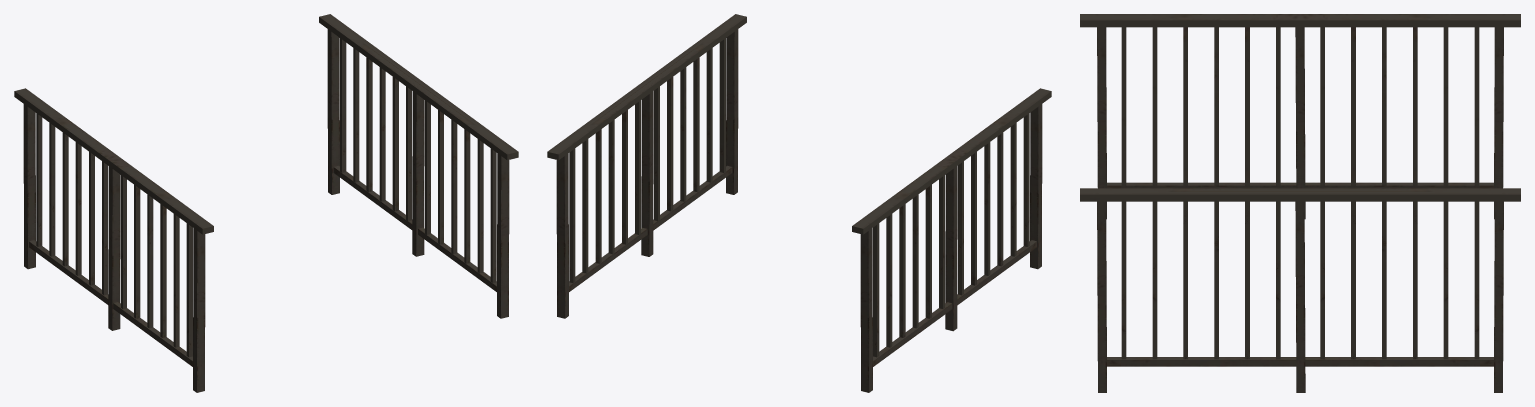
Rendered from Stairs_Rails_Metal_Straight_2.glb.
The picture shows the model from 3 angles, left to right: view 1: azimuth 30°, elevation 25°; view 2: azimuth 150°, elevation 25°; view 3: azimuth 270°, elevation 25°; orthographic projection. The views are drawn at different scales.
Parts seen in each view (by area): view 1: Stairs_Rails_Metal_Straight_2; view 2: Stairs_Rails_Metal_Straight_2; view 3: Stairs_Rails_Metal_Straight_2.
Part boxes in pixels (bbox=[...]): Stairs_Rails_Metal_Straight_2: bbox=[14, 14, 518, 392]; Stairs_Rails_Metal_Straight_2: bbox=[547, 14, 1051, 392]; Stairs_Rails_Metal_Straight_2: bbox=[1080, 14, 1520, 392].
Bounding box in the file's own units: 1.94 × 0.9981 × 2.
1 material, 1 textured.
